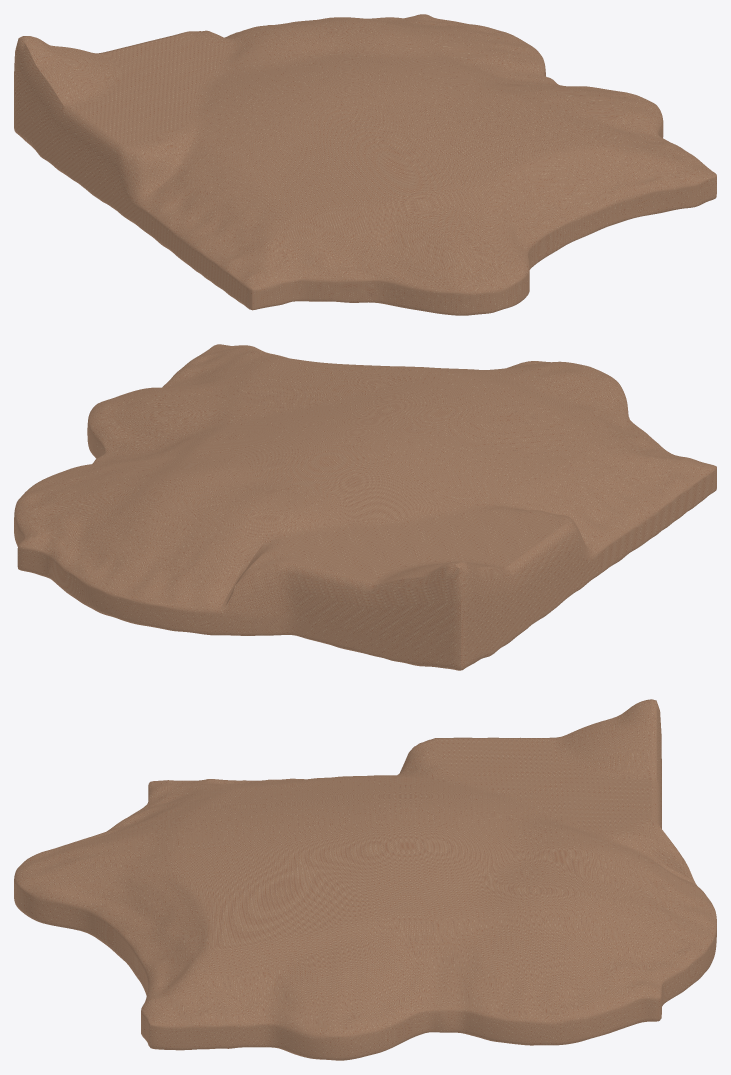
Rendered from terrainvoiture.glb.
The picture shows the model from 3 angles, top to bottom: view 1: azimuth 30°, elevation 25°; view 2: azimuth 150°, elevation 25°; view 3: azimuth 270°, elevation 25°; orthographic projection. The views are drawn at different scales.
Visible parts, largest first — view 1: Cube; view 2: Cube; view 3: Cube.
Part boxes in pixels (box(x1,y1,x2,y2)): Cube: box(14, 14, 716, 315); Cube: box(14, 344, 716, 670); Cube: box(14, 699, 716, 1060).
Bounding box in the file's own units: 949 × 190 × 1095.
Materials: 1 (1 with a texture image).
